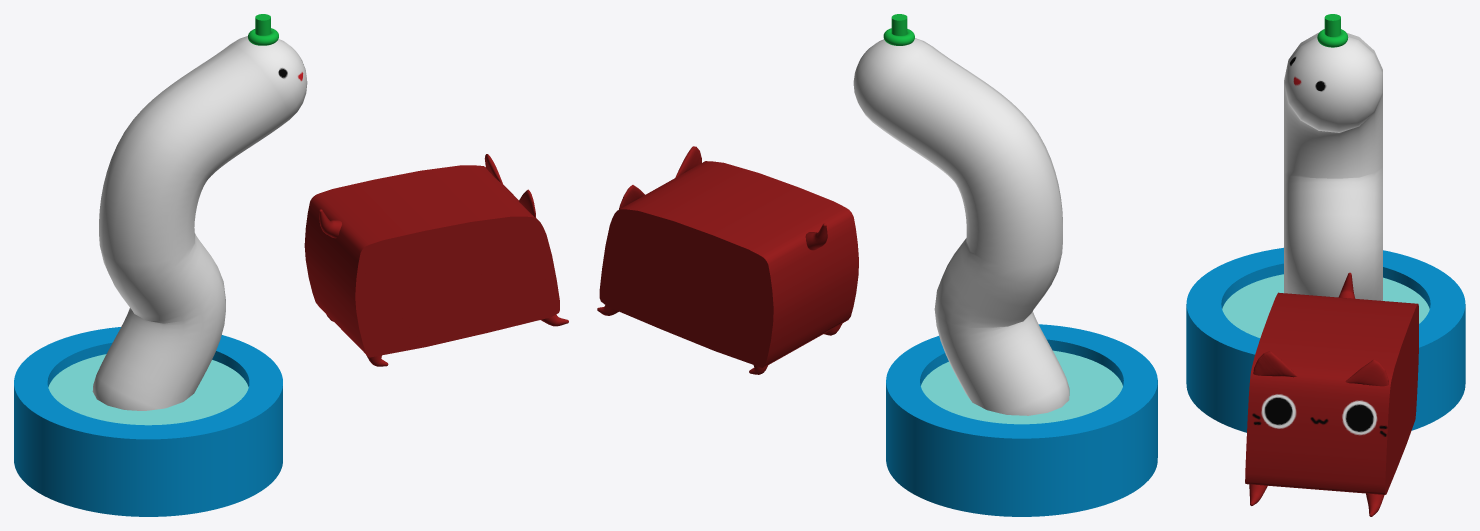
Rendered from 毛蔥+RRC.glb.
The picture shows the model from 3 angles, left to right: view 1: azimuth 30°, elevation 25°; view 2: azimuth 150°, elevation 25°; view 3: azimuth 270°, elevation 25°; orthographic projection. The views are drawn at different scales.
Visible parts, largest first — view 1: mesh_id53, mesh_id250, mesh_id62, mesh_id72; view 2: mesh_id53, mesh_id250, mesh_id62, mesh_id72; view 3: mesh_id250, mesh_id53, mesh_id62, mesh_id72, mesh_id234, mesh_id241, mesh_id57, mesh_id55.
Boxes of the visible parts, <box> form: mesh_id53: <box>92,36,307,410</box>; mesh_id250: <box>304,165,559,357</box>; mesh_id62: <box>14,327,282,516</box>; mesh_id72: <box>48,354,248,425</box>; mesh_id53: <box>853,38,1069,415</box>; mesh_id250: <box>599,161,858,367</box>; mesh_id62: <box>886,324,1157,516</box>; mesh_id72: <box>921,350,1122,424</box>; mesh_id250: <box>1245,292,1418,494</box>; mesh_id53: <box>1284,32,1382,300</box>; mesh_id62: <box>1186,247,1465,432</box>; mesh_id72: <box>1222,274,1429,337</box>; mesh_id234: <box>1345,359,1388,386</box>; mesh_id241: <box>1253,351,1297,377</box>; mesh_id57: <box>1317,29,1348,47</box>; mesh_id55: <box>1324,14,1340,36</box>.
Bounding box in the file's own units: 0.5918 × 0.4518 × 0.2678.
Materials: 11 (11 with a texture image).
